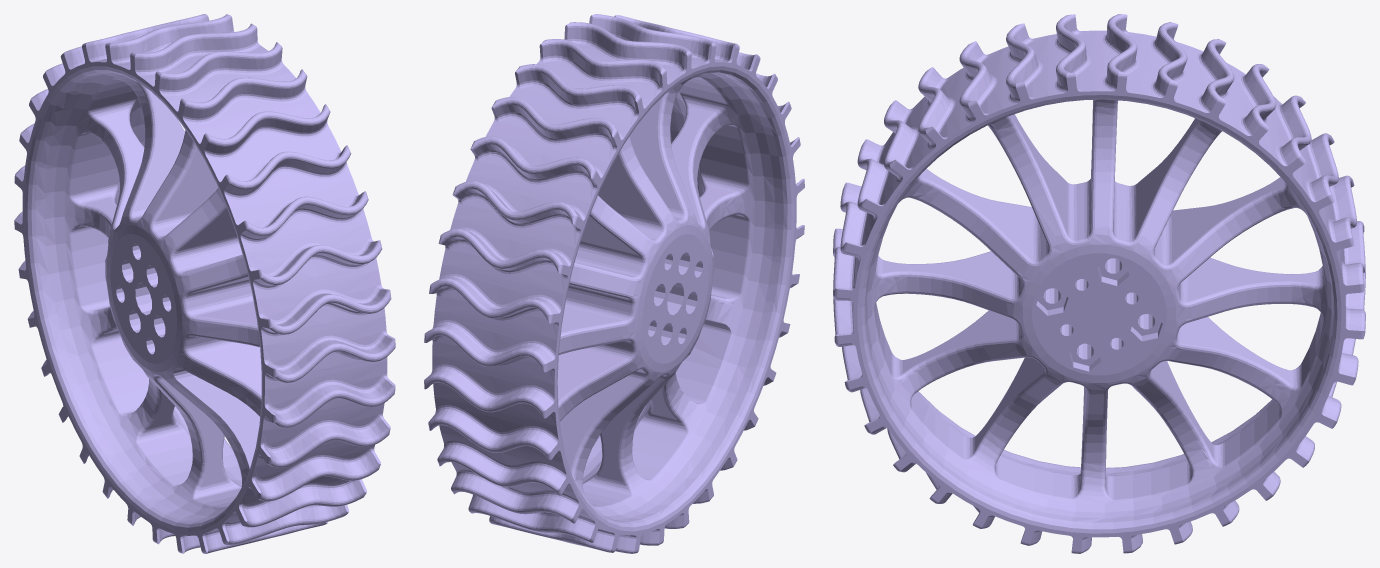
Rendered from Back Left Wheel.glb.
The picture shows the model from 3 angles, left to right: view 1: azimuth 30°, elevation 25°; view 2: azimuth 150°, elevation 25°; view 3: azimuth 270°, elevation 25°; orthographic projection.
Size of the model in its own units: 0.035 by 0.1299 by 0.1299.
